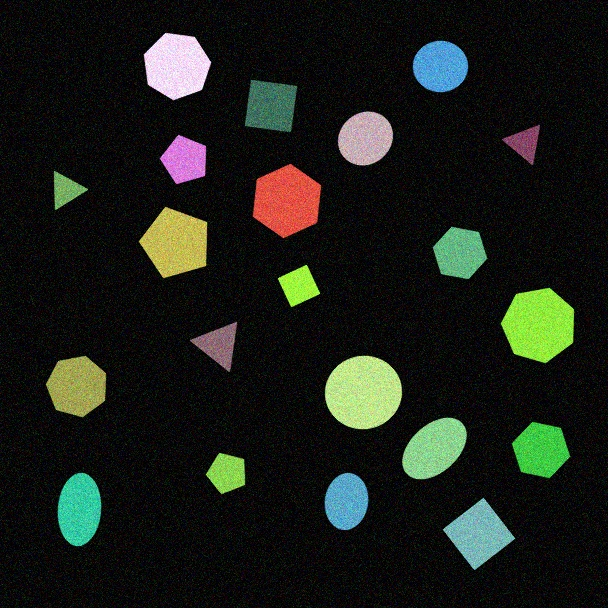Circulo: (324, 355, 403, 430), (337, 111, 394, 166), (412, 40, 469, 93)
Elipse: (401, 417, 468, 480), (57, 472, 102, 547), (324, 472, 369, 531)
Heptagono: (500, 287, 575, 364), (143, 32, 212, 101), (45, 355, 107, 418)
Hexagono: (252, 163, 322, 239), (511, 421, 571, 479), (432, 226, 488, 280)
Pentagono: (138, 206, 208, 279), (159, 134, 207, 185), (205, 452, 246, 495)
Quadrado: (442, 497, 516, 571), (244, 79, 298, 133), (277, 264, 321, 308)
Triangulo: (190, 321, 238, 373), (502, 124, 541, 166), (53, 170, 89, 211)
